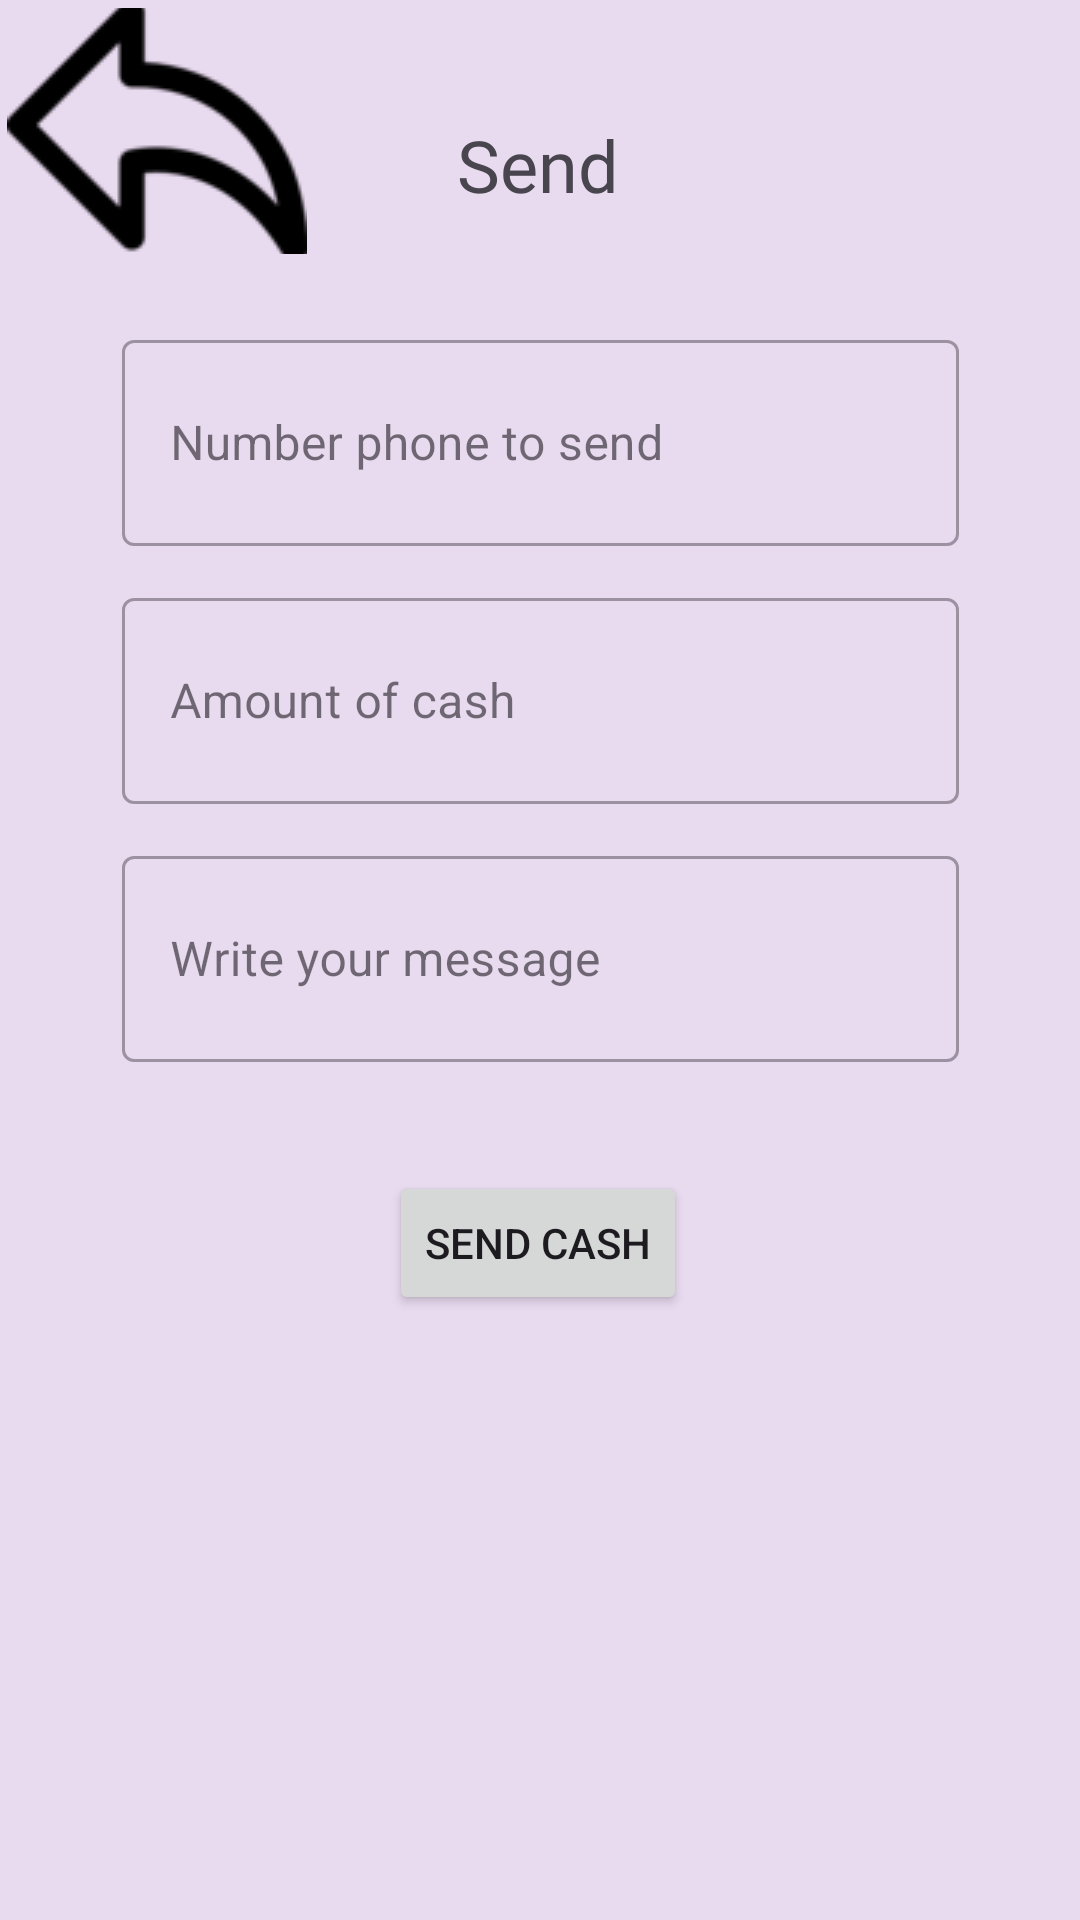

Named icons in this screenshot (1080px x 1920px) and their centers, [x,y]:
back: [157,131]
